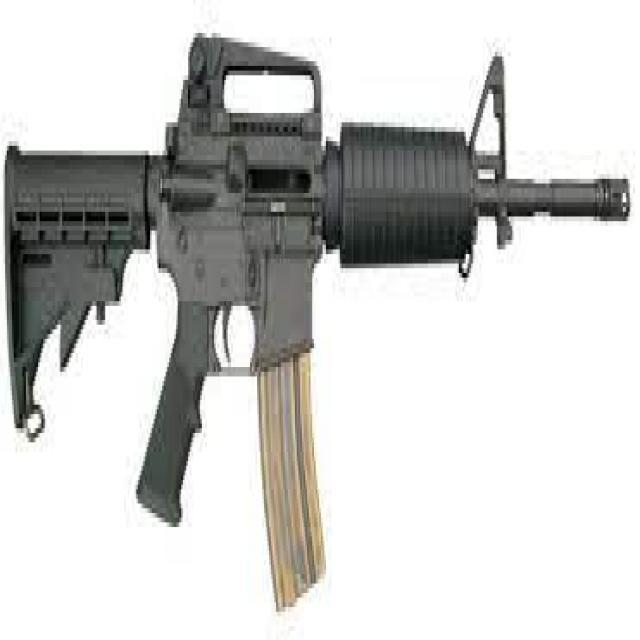m16: (218, 22, 636, 610)
